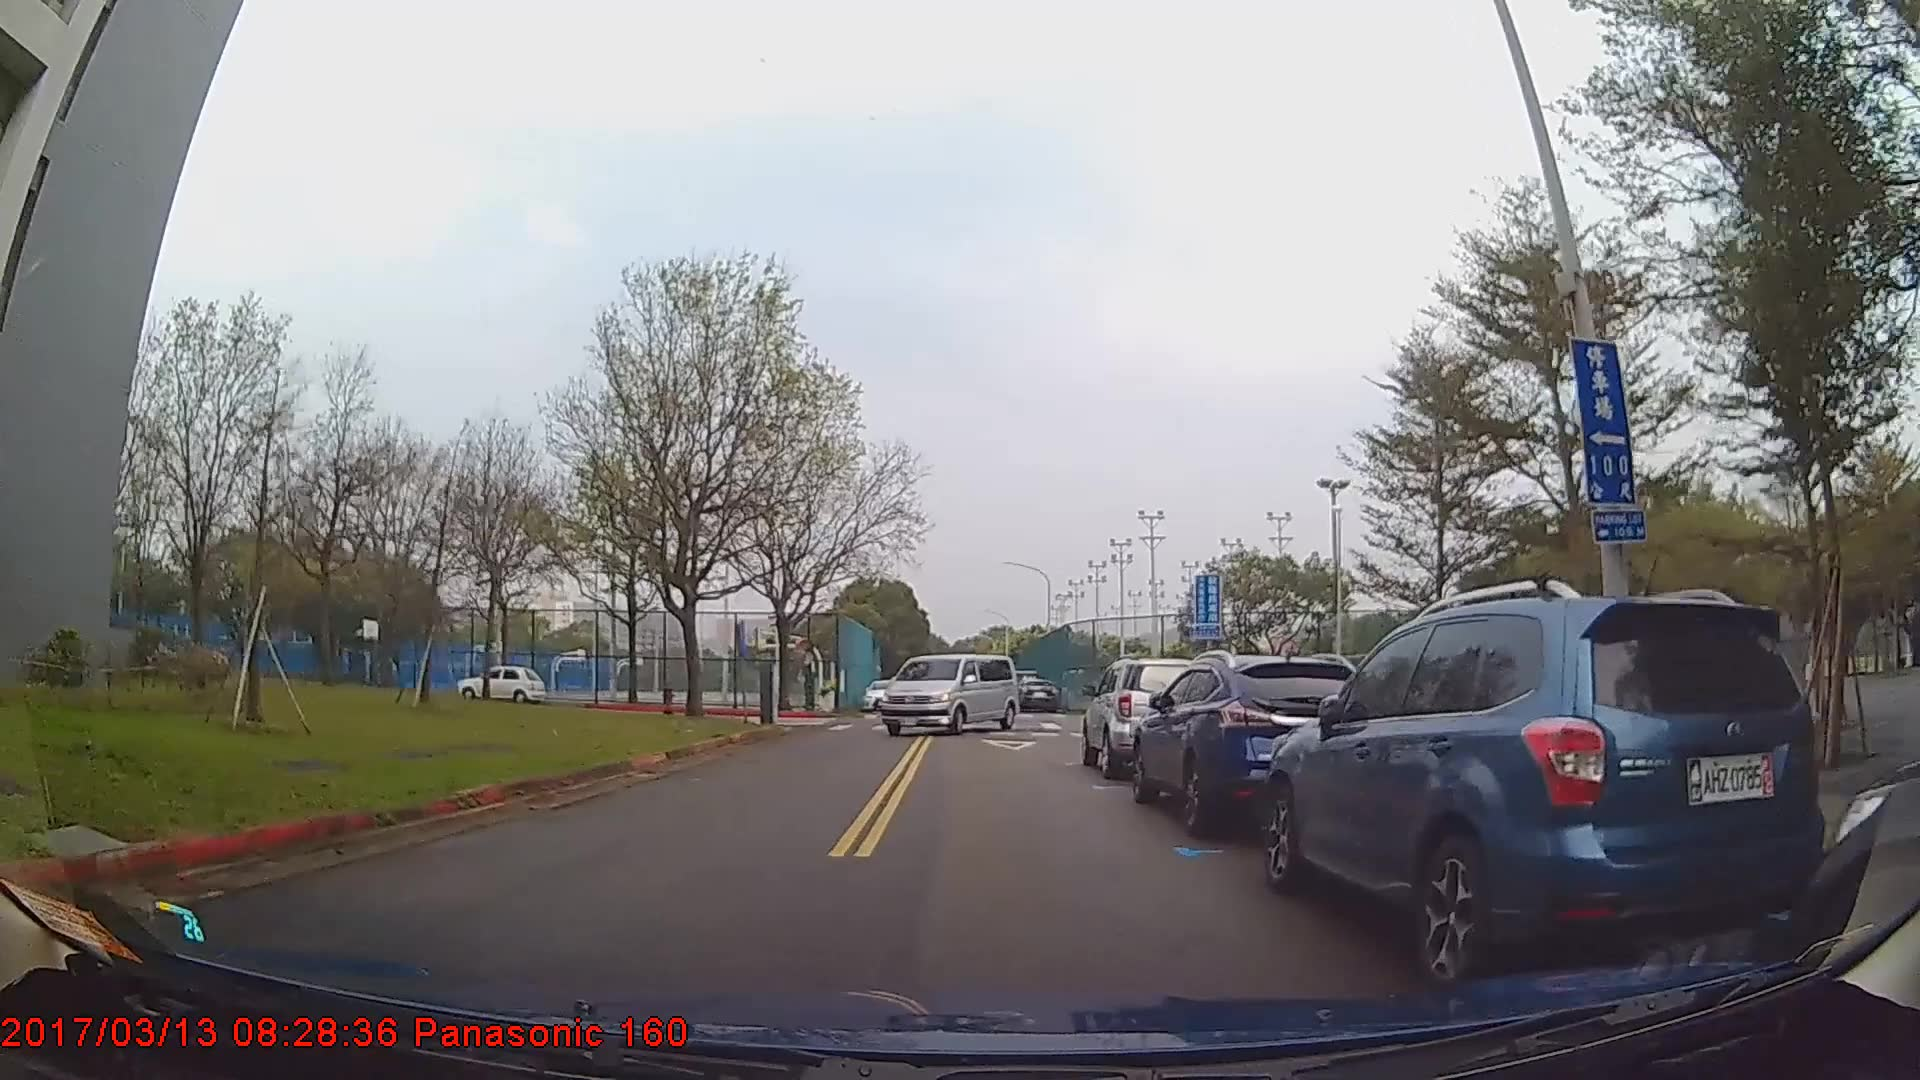vehicle: (1255, 593, 1822, 982), (1129, 653, 1371, 833), (1083, 655, 1211, 775), (876, 651, 1018, 738), (459, 663, 545, 703), (1013, 674, 1059, 711), (861, 676, 901, 713)
